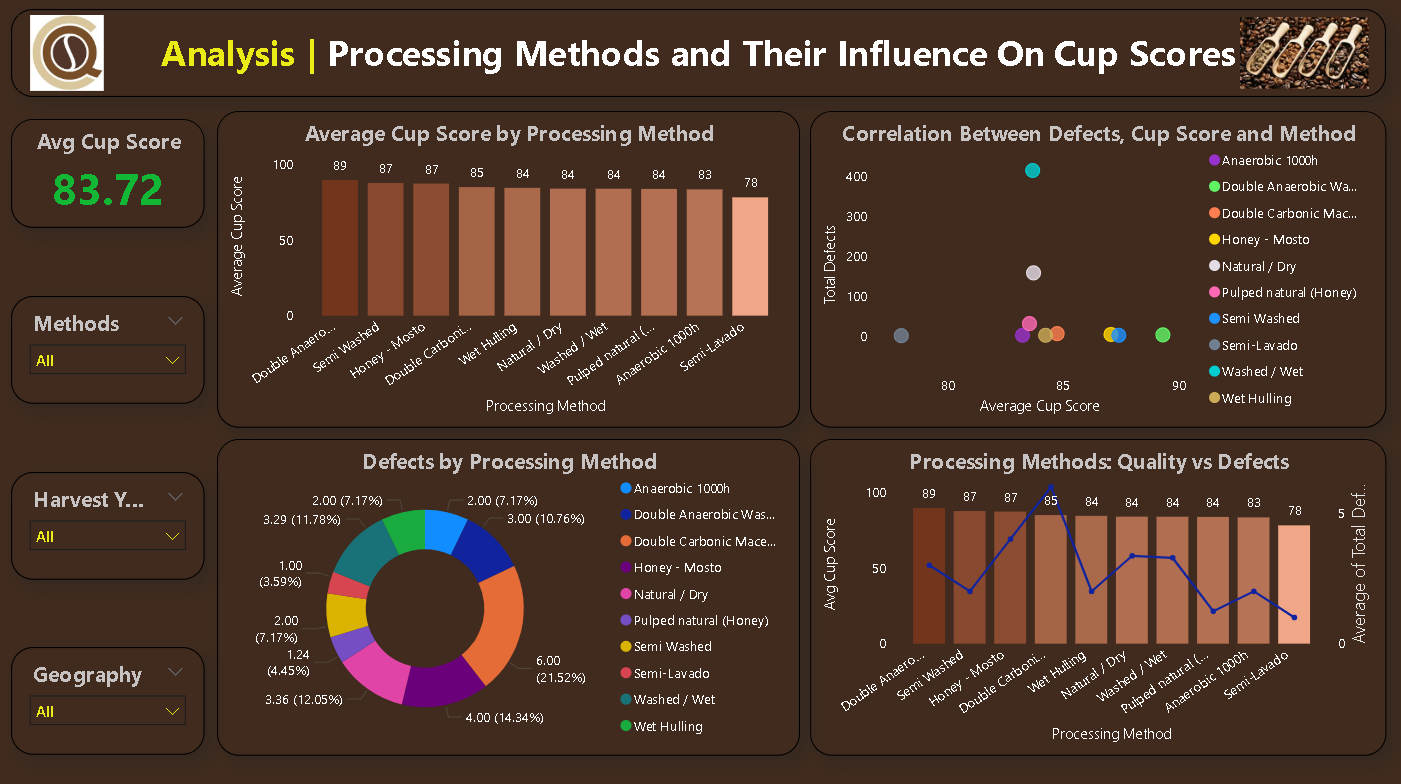

The dashboard page shown, as its layout file describes it:
{"tool":"powerbi","page":{"name":"Processing Method","canvas":[1280,720],"ordinal":1},"visuals":[{"type":"clusteredColumnChart","title":"Average Cup Score by Processing Method","fields":{"Category":["Dim Processing Method.Processing Method"],"Y":["df_arabica_clean.Avg Cup Score"]},"box":[201.6,105.3,530.2,288],"z":0},{"type":"textbox","box":[14.4,12.6,1250.2,80.3],"z":1000,"group":"g1"},{"type":"slicer","title":"Geography","fields":{"Values":["df_arabica_clean.Processing Method"]},"box":[14.4,273.3,176.4,98.5],"z":1000,"group":"g2"},{"type":"image","box":[1131.5,18,117,69.3],"z":2000,"group":"g1"},{"type":"scatterChart","title":"Correlation Between Defects, Cup Score and  Method","fields":{"Series":["df_arabica_clean.Processing Method"],"X":["df_arabica_clean.Avg Cup Score"],"Y":["Sum(df_arabica_clean.Total Defects)"]},"box":[740.8,105.3,523.9,288],"z":2000},{"type":"image","box":[20.7,18,89.1,69.3],"z":3000,"group":"g1"},{"type":"card","title":"Avg Cup Score","fields":{"Values":["df_arabica_clean.Avg Cup Score"]},"box":[14.4,112.5,176.4,99.4],"z":3000,"group":"g2"},{"type":"group","id":"g1","title":"Group 1","box":[14.4,12.6,1250.2,80.3],"z":4000},{"type":"lineStackedColumnComboChart","title":"Processing Methods: Quality vs Defects","fields":{"Category":["Dim Processing Method.Processing Method"],"Y":["df_arabica_clean.Avg Cup Score"],"Y2":["Avg(df_arabica_clean.Total Defects)"]},"box":[740.8,403.3,523.9,288],"z":5000},{"type":"donutChart","title":"Defects by Processing Method","fields":{"Series":["Dim Processing Method.Processing Method"],"Y":["Avg(df_arabica_clean.Total Defects)"]},"box":[201.6,403.3,530.2,288],"z":6000},{"type":"slicer","title":"Geography","fields":{"Values":["Dim Region.Geography Hierachy.Country of Origin","Dim Region.Geography Hierachy.Region","Dim Region.Geography Hierachy.AvgAltitude"]},"box":[14.4,592.8,176.4,98.5],"z":7000,"group":"g2"},{"type":"slicer","title":"Geography","fields":{"Values":["df_arabica_clean.Harvest Year"]},"box":[14.4,433.1,176.4,98.5],"z":8000,"group":"g2"},{"type":"group","id":"g2","title":"Group 2","box":[14.4,112.5,176.4,578.8],"z":8001}]}

Visuals, with their boxes in screenshot pixels (x1, y1, x2, y2), scaled from the page's 1280x720 canvas onto the 1401x784 screenshot:
"Average Cup Score by Processing Method" clusteredColumnChart: pyautogui.locateOnScreen(221, 115, 801, 428)
textbox: pyautogui.locateOnScreen(16, 14, 1384, 101)
"Geography" slicer: pyautogui.locateOnScreen(16, 298, 209, 405)
image: pyautogui.locateOnScreen(1238, 20, 1367, 95)
"Correlation Between Defects, Cup Score and  Method" scatterChart: pyautogui.locateOnScreen(811, 115, 1384, 428)
image: pyautogui.locateOnScreen(23, 20, 120, 95)
"Avg Cup Score" card: pyautogui.locateOnScreen(16, 122, 209, 231)
"Group 1" group: pyautogui.locateOnScreen(16, 14, 1384, 101)
"Processing Methods: Quality vs Defects" lineStackedColumnComboChart: pyautogui.locateOnScreen(811, 439, 1384, 753)
"Defects by Processing Method" donutChart: pyautogui.locateOnScreen(221, 439, 801, 753)
"Geography" slicer: pyautogui.locateOnScreen(16, 645, 209, 753)
"Geography" slicer: pyautogui.locateOnScreen(16, 472, 209, 579)
"Group 2" group: pyautogui.locateOnScreen(16, 122, 209, 753)
